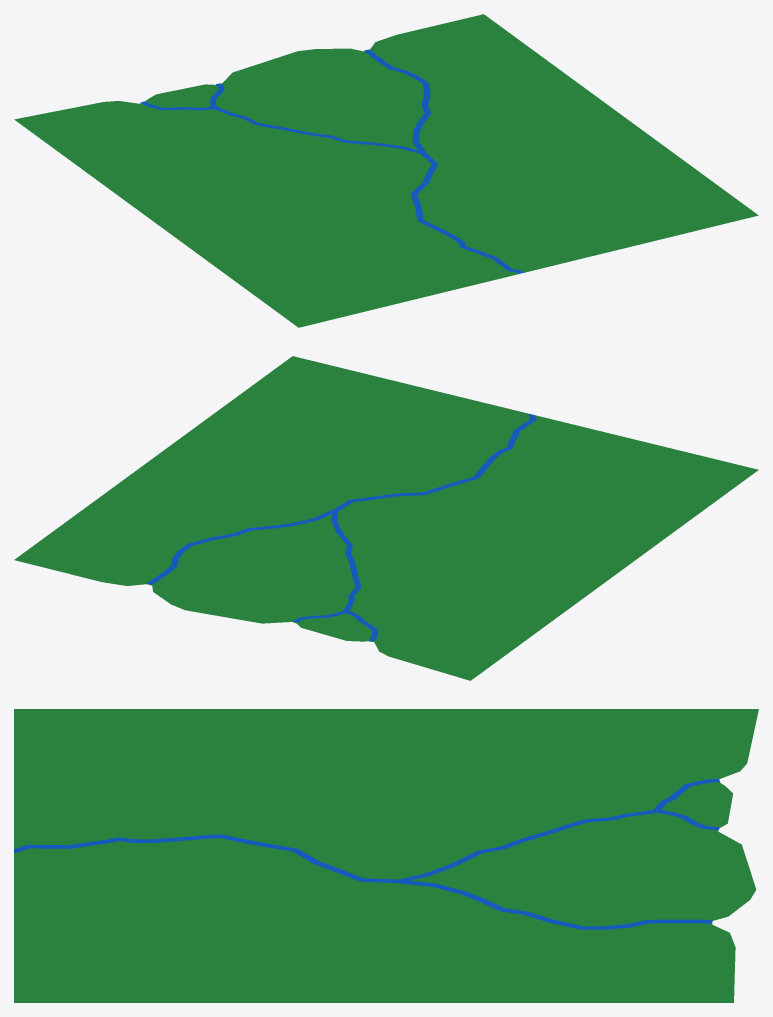
The model's file is 06_pre-fin.glb.
3 renders of one model, top to bottom at view 1: azimuth 30°, elevation 25°; view 2: azimuth 150°, elevation 25°; view 3: azimuth 270°, elevation 25°, orthographic. The views are drawn at different scales.
Parts seen in each view (by area): view 1: 06_sol, 06_sol.cote, 06_riviere; view 2: 06_sol, 06_sol.cote, 06_riviere; view 3: 06_sol, 06_sol.cote, 06_riviere.
Boxes of the visible parts, x1,y1,x2,y2 form: 06_sol: (33,21,758,327); 06_sol.cote: (14,14,492,133); 06_riviere: (140,49,523,273); 06_sol: (24,356,758,666); 06_sol.cote: (14,553,488,680); 06_riviere: (147,414,536,641); 06_sol: (14,709,709,1002); 06_sol.cote: (709,709,758,1002); 06_riviere: (14,778,719,929).
Bounding box in the file's own units: 60 × 0.1 × 64.27.
1 material, 1 textured.
